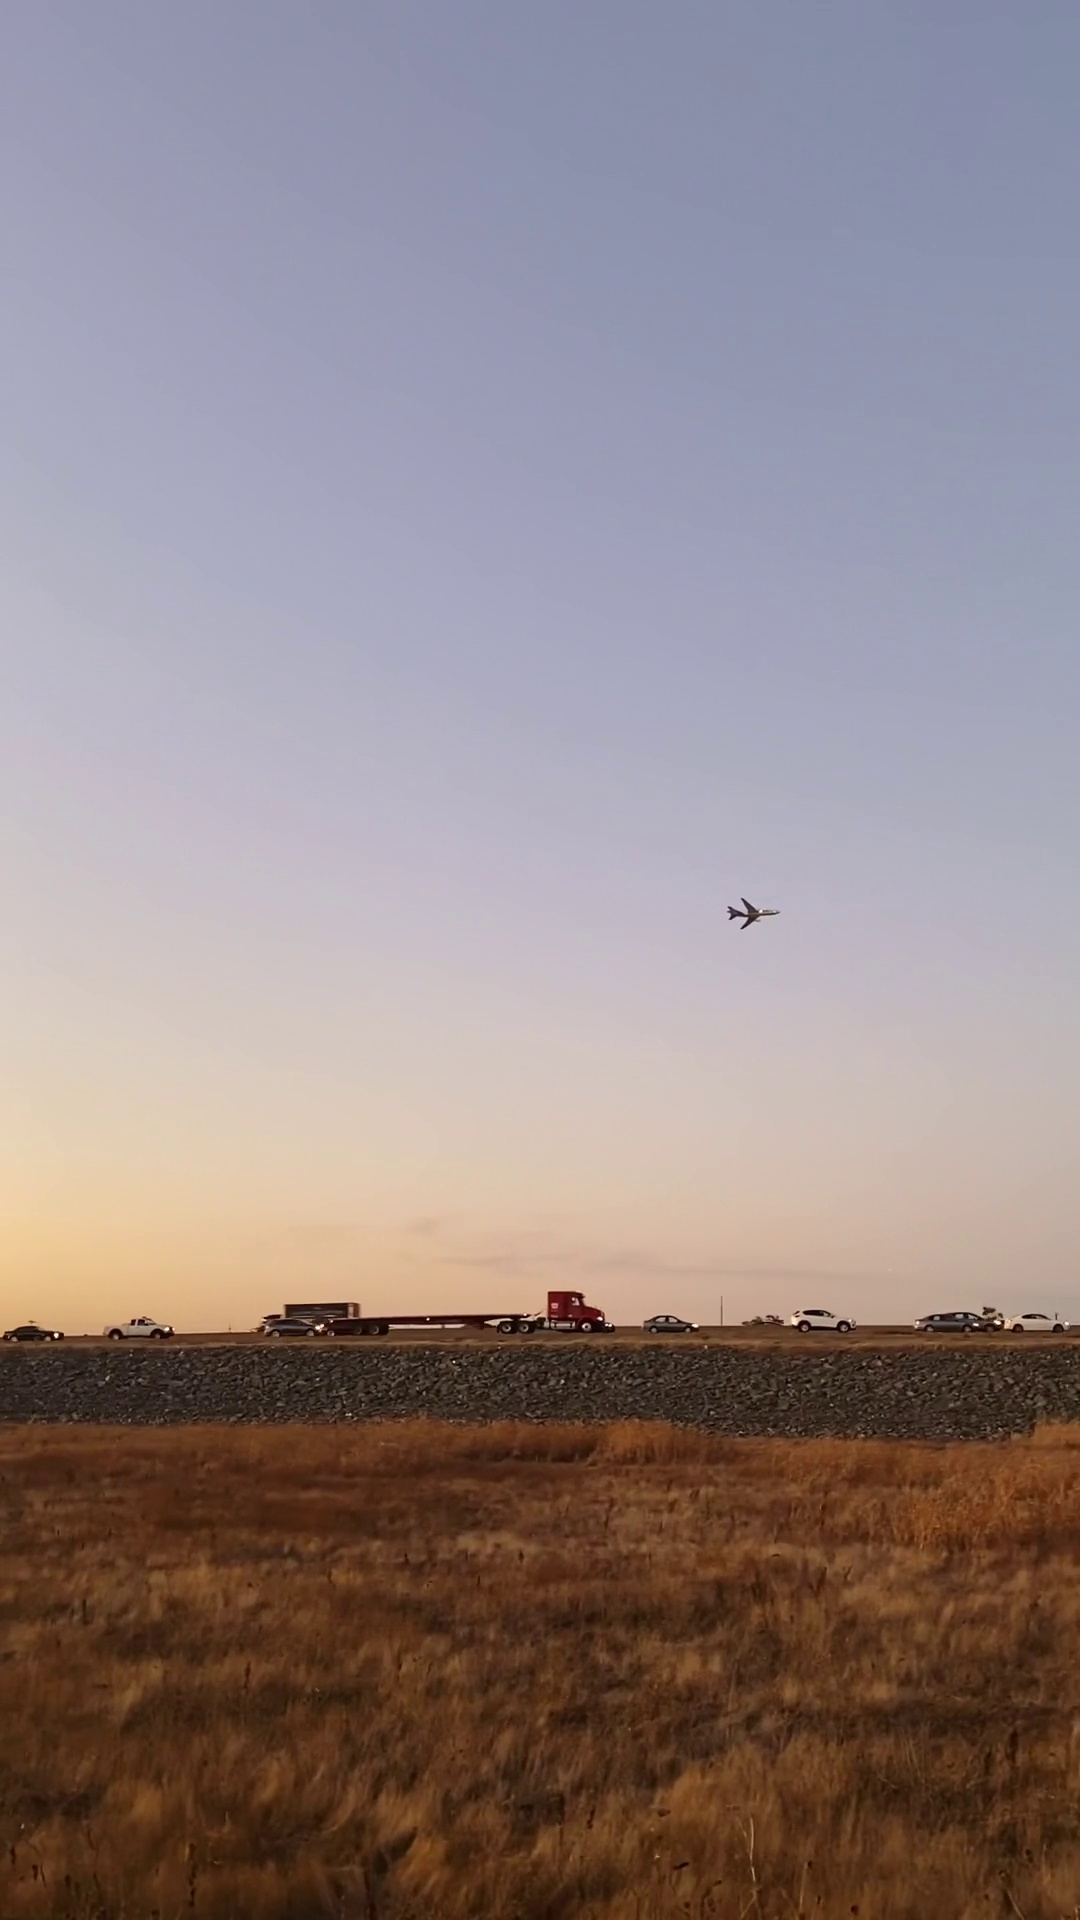plane: (727, 897, 781, 931)
